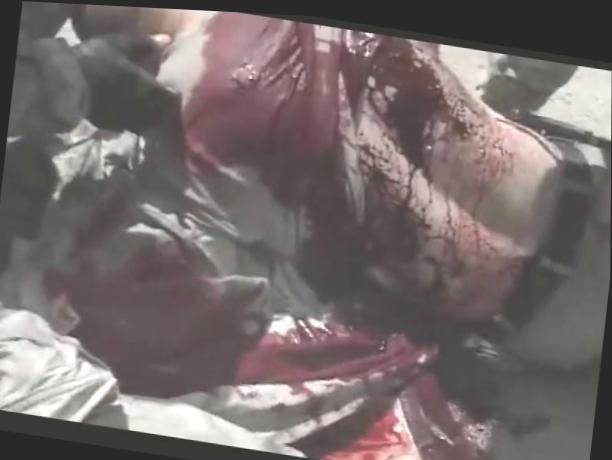Fire: (59, 189, 494, 460), (183, 9, 527, 314), (161, 90, 220, 172), (41, 267, 71, 299)
